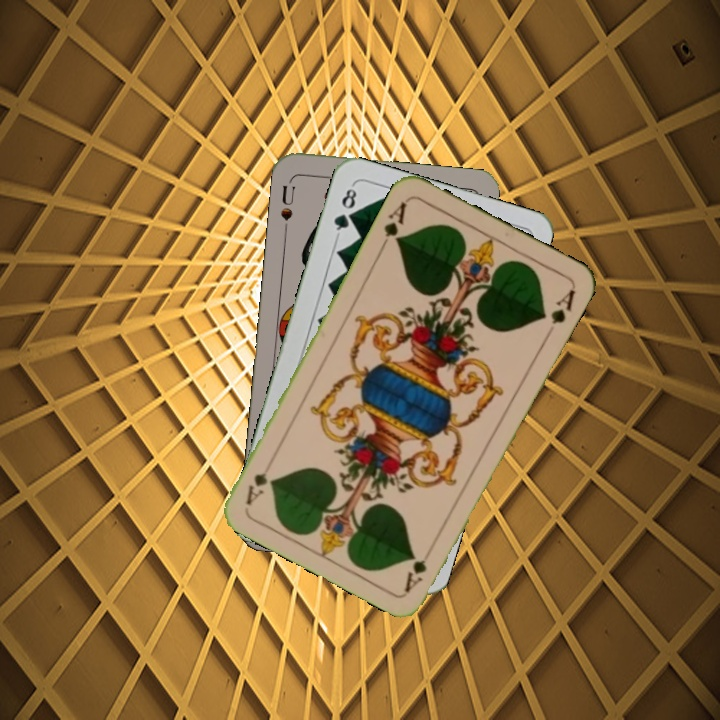G8: (329, 181, 359, 239)
GA: (377, 197, 411, 252), (400, 555, 429, 594)
SU: (277, 176, 298, 235)
